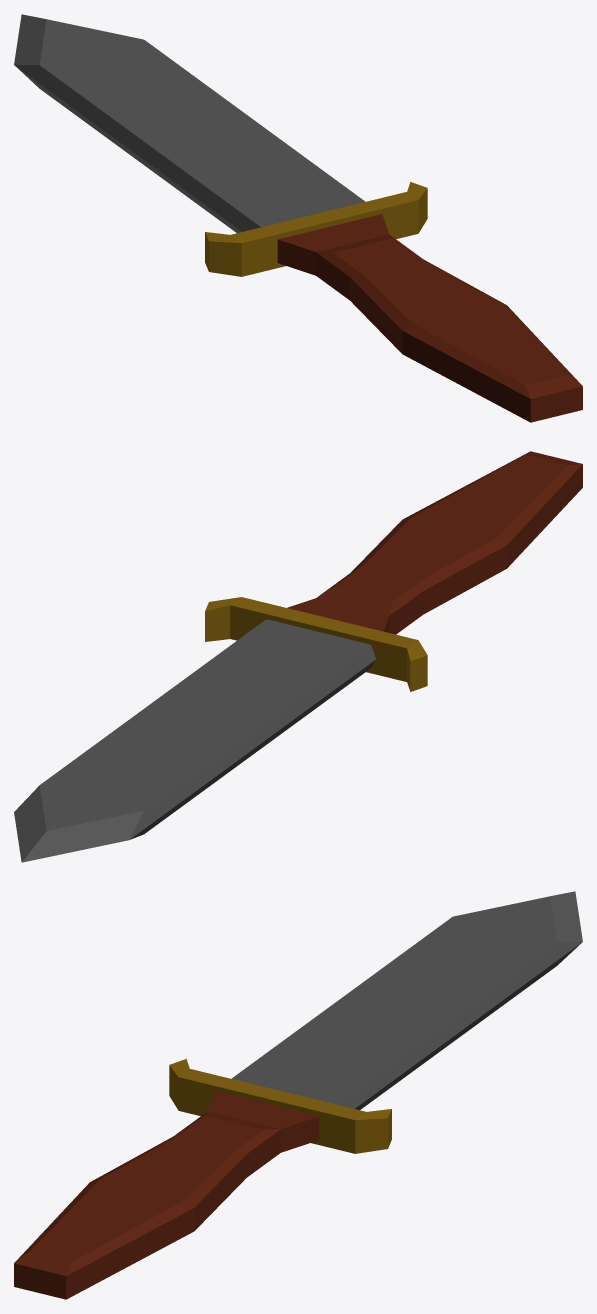
Rendered from Knife2.fbx.
The picture shows the model from 3 angles, top to bottom: view 1: azimuth 30°, elevation 25°; view 2: azimuth 150°, elevation 25°; view 3: azimuth 330°, elevation 25°; orthographic projection.
Visible parts, largest first — view 1: Lez, Ru, Z; view 2: Lez, Ru, Z; view 3: Lez, Ru, Z.
Part boxes in pixels (<box>): Lez: <box>14,14,365,232</box>; Ru: <box>277,214,582,422</box>; Z: <box>205,182,427,276</box>; Lez: <box>14,619,375,862</box>; Ru: <box>287,451,582,634</box>; Z: <box>205,597,427,691</box>; Lez: <box>231,891,582,1109</box>; Ru: <box>14,1091,319,1299</box>; Z: <box>169,1059,391,1153</box>.
Bounding box in the file's own units: 111 × 16.54 × 472.
